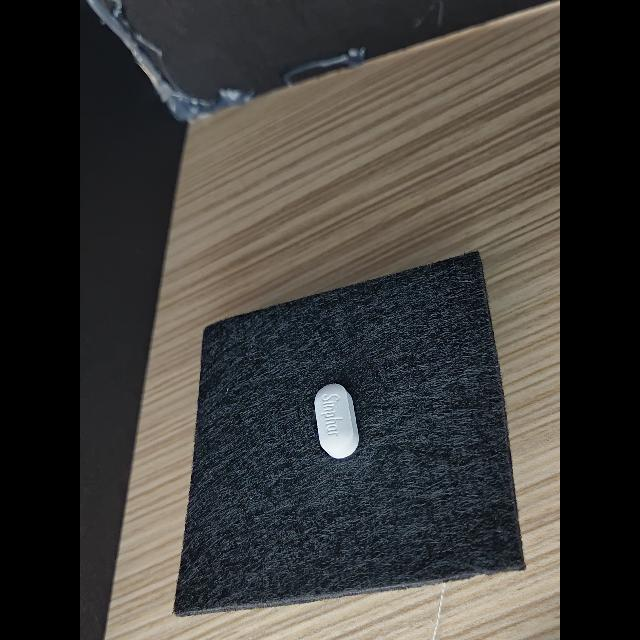Intact Pill: (314, 384, 359, 458)
